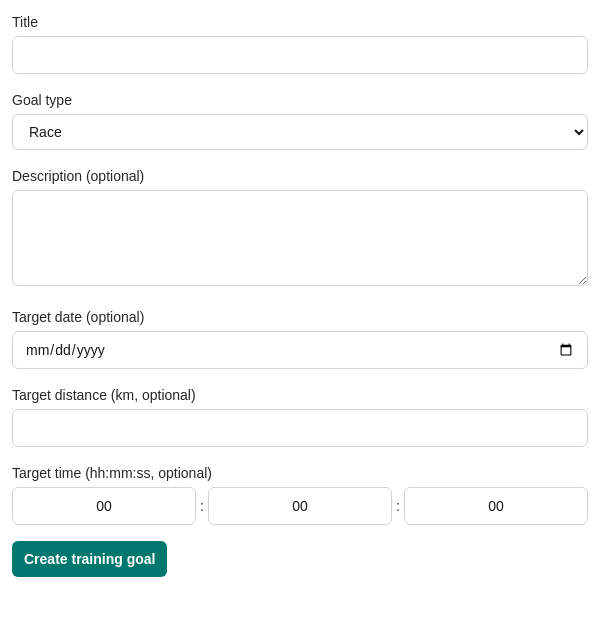
Scenario: shows validation errors without submitting
Click the button "Create training goal" at (90, 559), box [12,541,168,577]
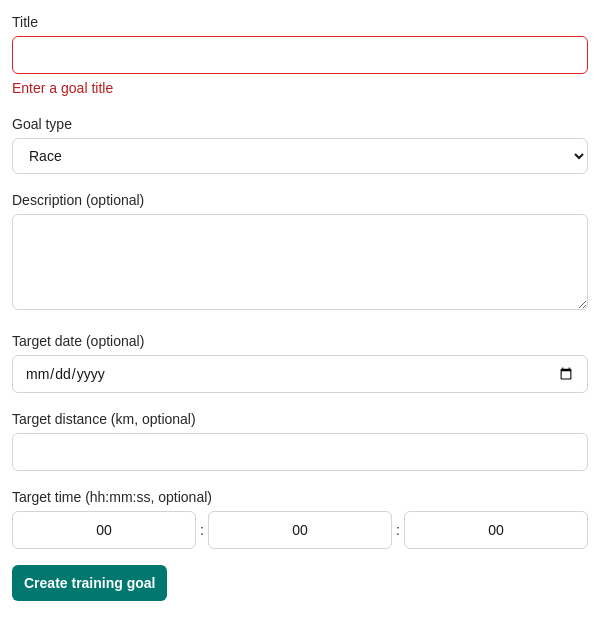
Now the text "Enter a goal title" is shown, box [12,80,113,96]
